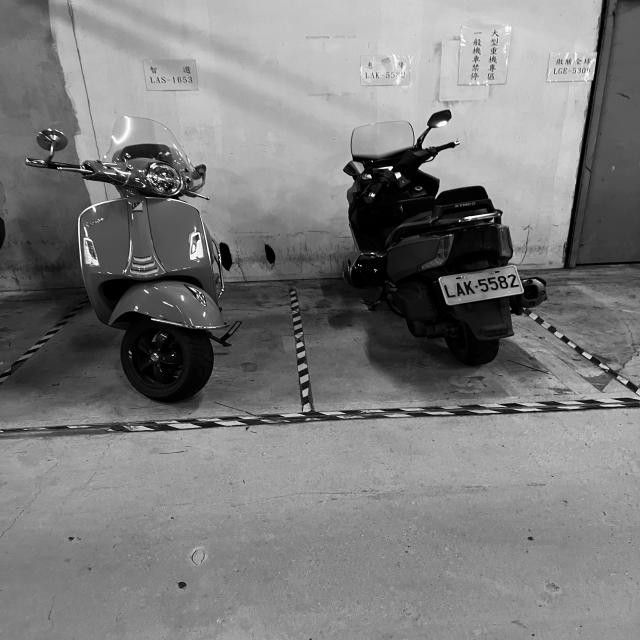-: (474, 284, 479, 288)
2: (508, 273, 520, 287)
5: (488, 276, 499, 290), (478, 278, 488, 292)
8: (498, 276, 508, 288)
A: (453, 282, 466, 297)
K: (464, 280, 476, 294)
L: (443, 284, 456, 298)
plate: (439, 265, 524, 306)
